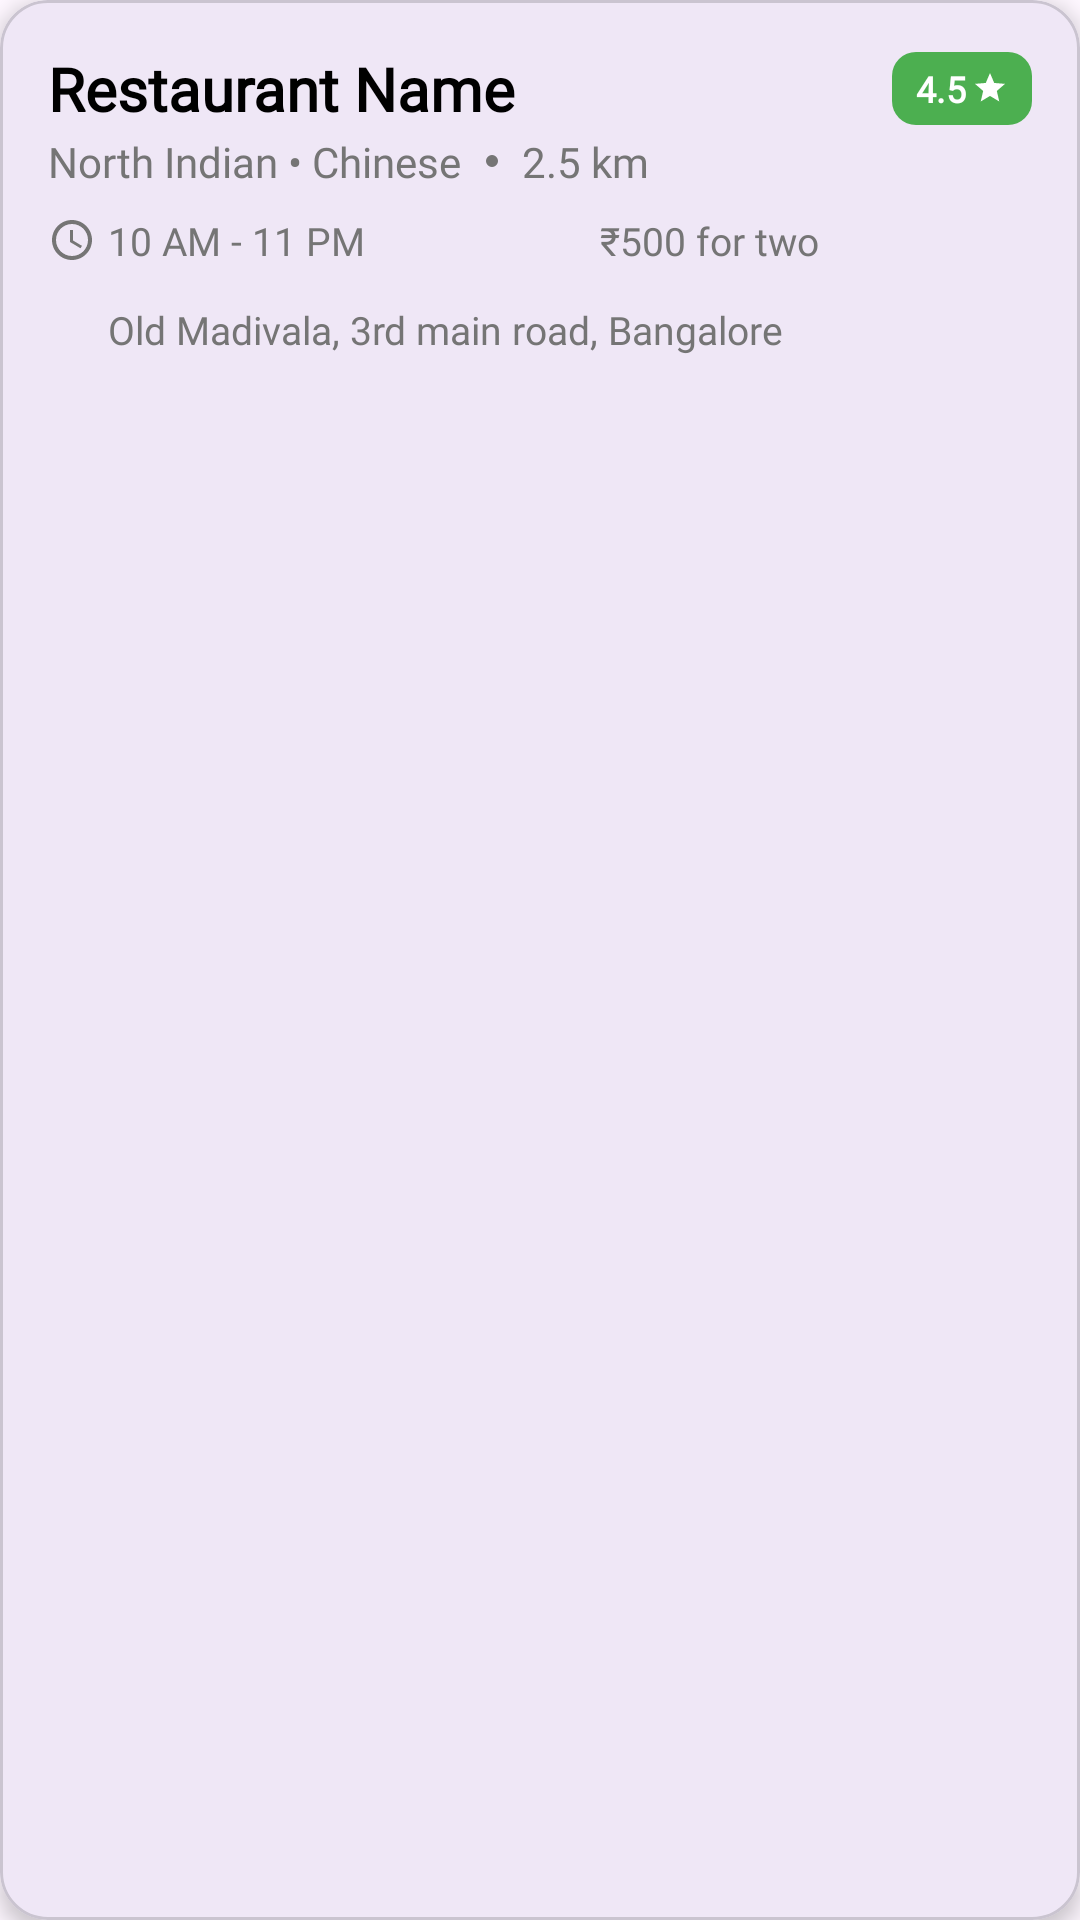

Locate icon controls on the screen. Image size 1080 × 1920, boxes as (x1, y1, x2, y2).
star: (975, 73, 1005, 101)
time: (52, 220, 92, 260)
